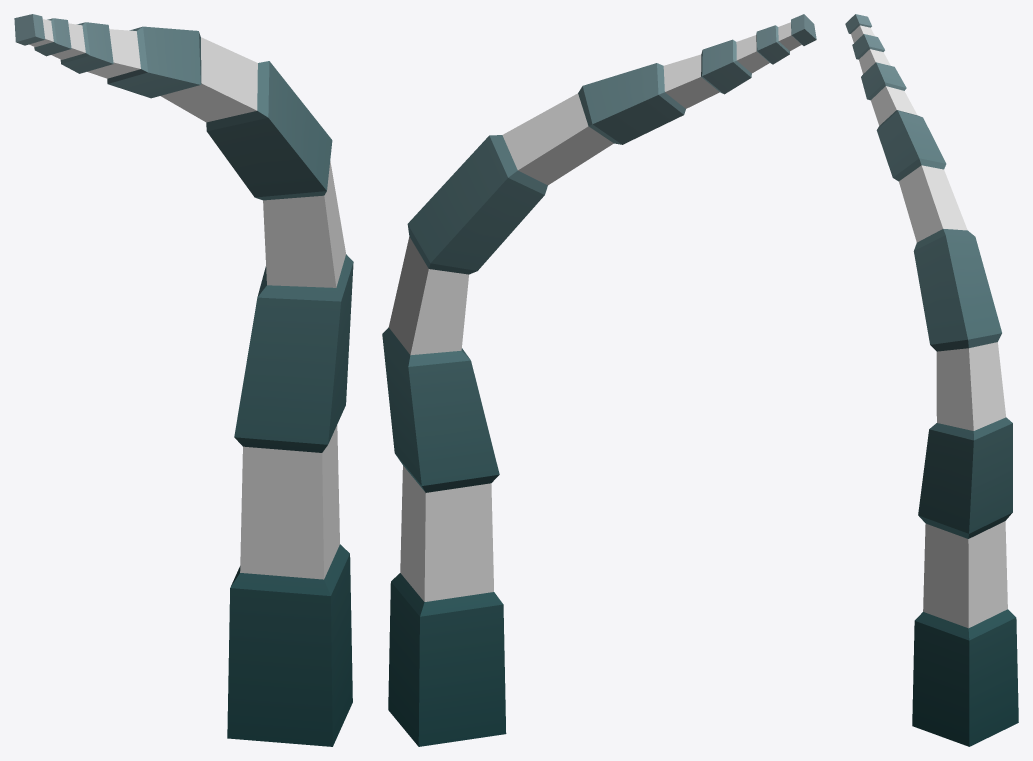
3 views of the same model, side by side, from view 1: azimuth 30°, elevation 25°; view 2: azimuth 150°, elevation 25°; view 3: azimuth 270°, elevation 25° (orthographic). The views are drawn at different scales.
Visible parts, largest first — view 1: Cube.145; view 2: Cube.145; view 3: Cube.145.
Part boxes in pixels (x1,y1,x2,y2): Cube.145: (14,14,353,746); Cube.145: (382,14,816,746); Cube.145: (845,14,1018,746).
Bounding box in the file's own units: 12.14 × 23.3 × 6.16.
